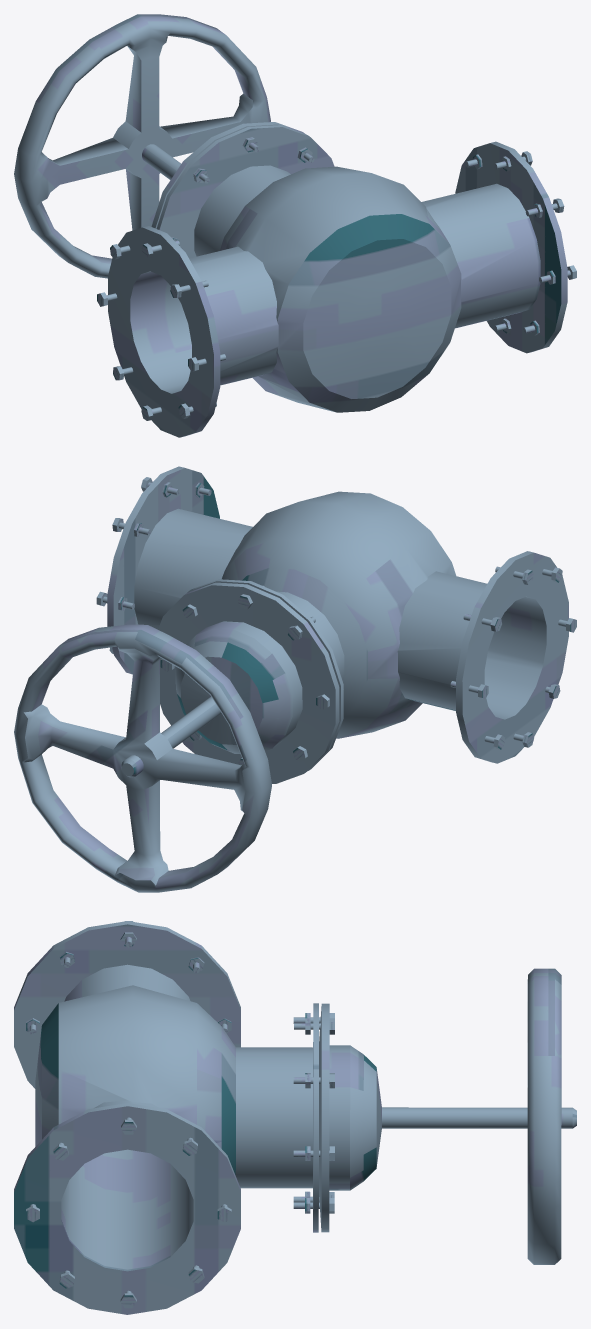
Rendered from valvula.glb.
3 renders of one model, top to bottom at view 1: azimuth 30°, elevation 25°; view 2: azimuth 150°, elevation 25°; view 3: azimuth 270°, elevation 25°, orthographic. The views are drawn at different scales.
Parts seen in each view (by area): view 1: Tubo, Wheel; view 2: Tubo, Wheel; view 3: Tubo, Wheel.
Boxes of the visible parts, x1,y1,x2,y2 form: Tubo: [97, 122, 576, 437]; Wheel: [14, 14, 270, 278]; Tubo: [96, 466, 576, 783]; Wheel: [14, 624, 271, 892]; Tubo: [14, 921, 576, 1314]; Wheel: [527, 968, 561, 1264].
Size of the model in its own units: 0.8329 by 0.538 by 0.9876.
3 materials, 3 textured.
